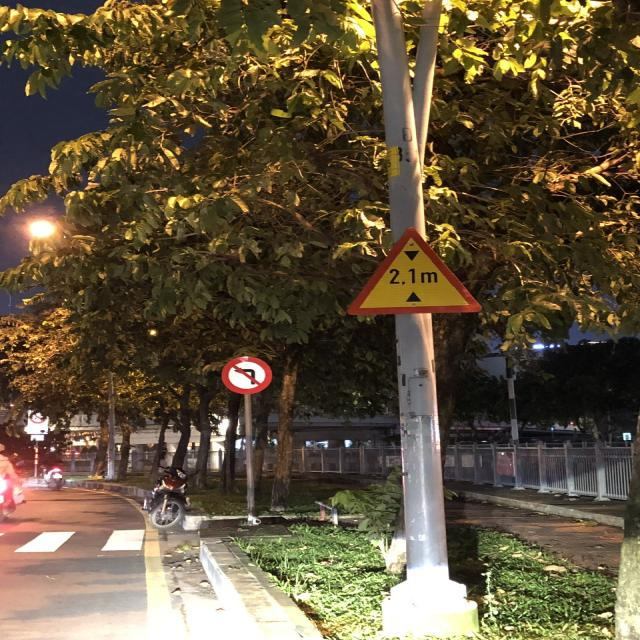Bien bao cam re trai: (212, 352, 277, 395)
Bien bao chieu cao tinh khong thuc te: (341, 224, 495, 319)
